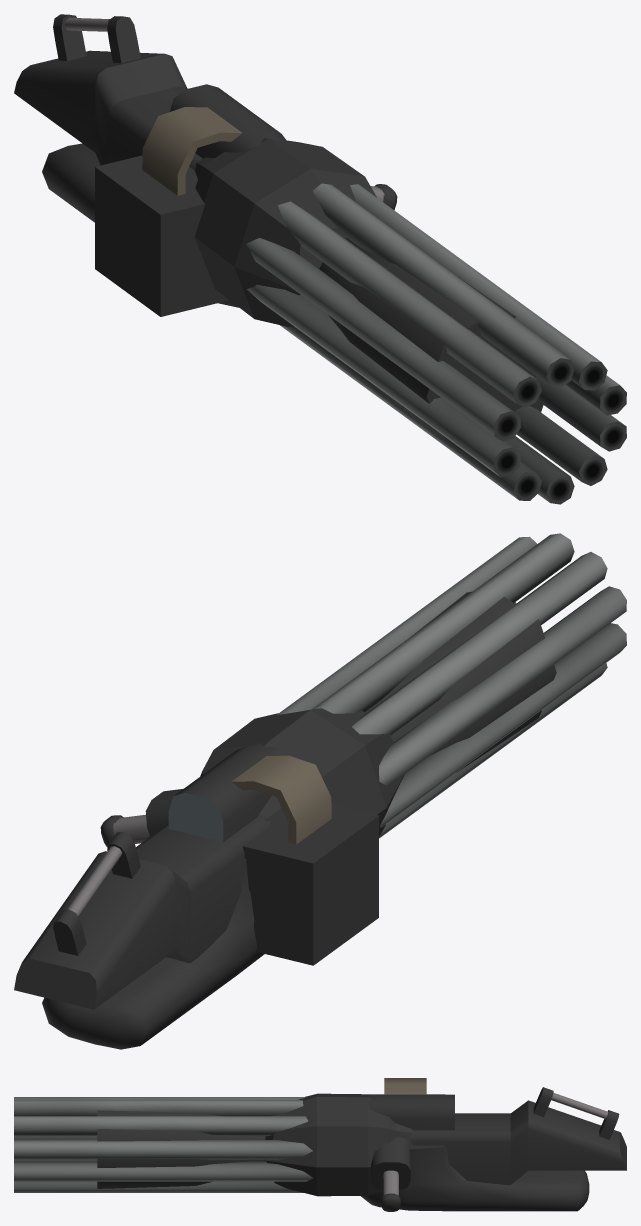
File: gatling.fbx
3 renders of one model, top to bottom at view 1: azimuth 30°, elevation 25°; view 2: azimuth 150°, elevation 25°; view 3: azimuth 270°, elevation 25°, orthographic. The views are drawn at different scales.
Parts seen in each view (by area): view 1: GatlingBarrels, GatlingBody; view 2: GatlingBody, GatlingBarrels; view 3: GatlingBody, GatlingBarrels.
Part boxes in pixels (<box>): GatlingBarrels: <box>246,183,626,504</box>; GatlingBody: <box>14,14,397,326</box>; GatlingBody: <box>14,708,404,1049</box>; GatlingBarrels: <box>276,533,626,838</box>; GatlingBody: <box>264,1078,626,1211</box>; GatlingBarrels: <box>14,1097,313,1192</box>.
Bounding box in the file's own units: 282 × 204 × 977.
2 materials, 2 textured.
